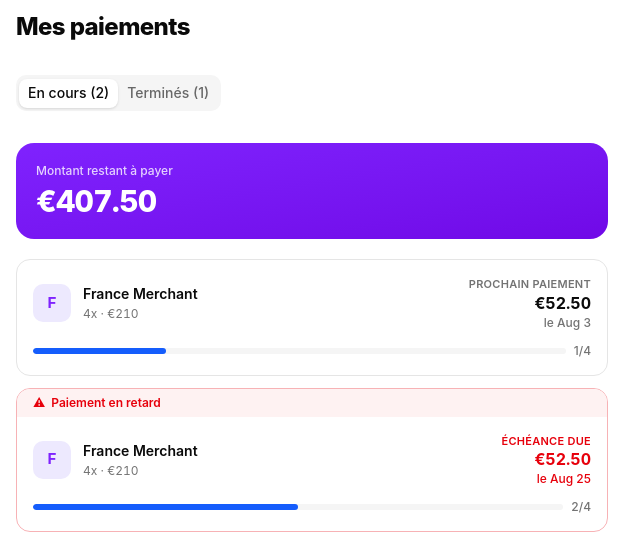
Test case: PaymentsList › should switch to completed tab
What coordinates should you click on to do the following:
click the tab "Terminés (1)"
I would click on:
 (168, 93)
Its box is [118, 78, 218, 108].
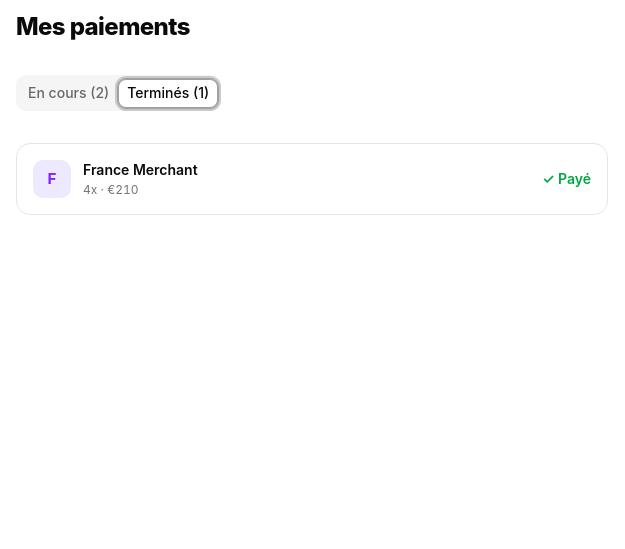
Check: the text "✓ Payé" is shown, box [542, 169, 591, 189]
